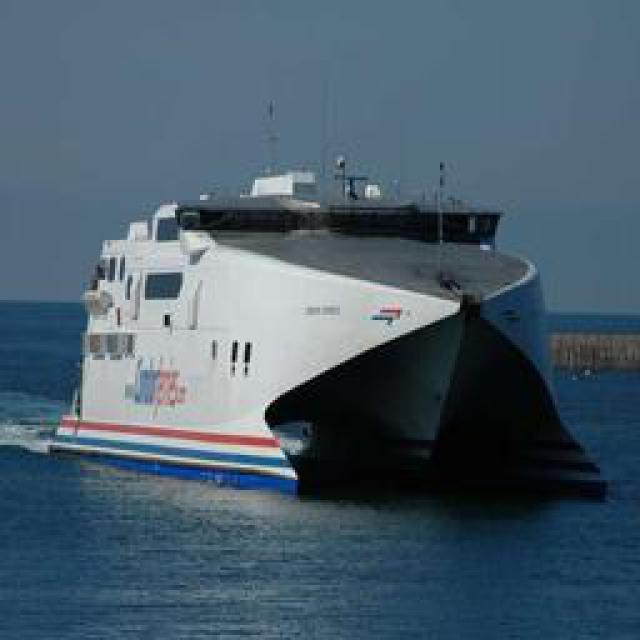Ship: (56, 187, 601, 497)
